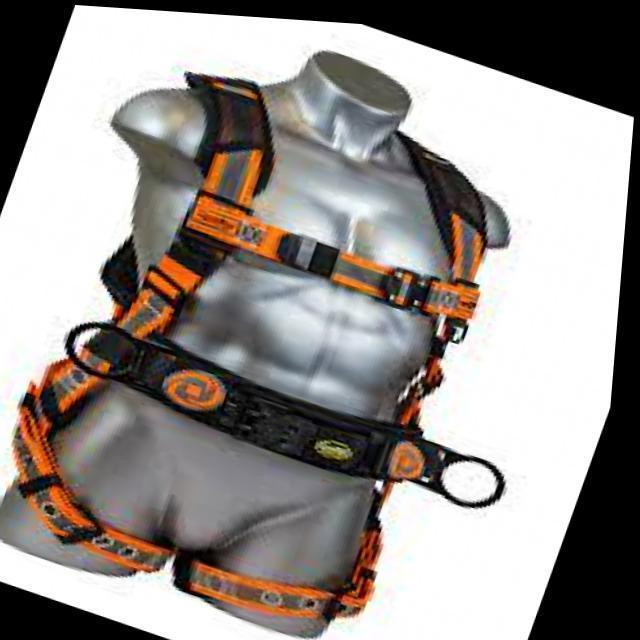Harness: (13, 74, 509, 640)
